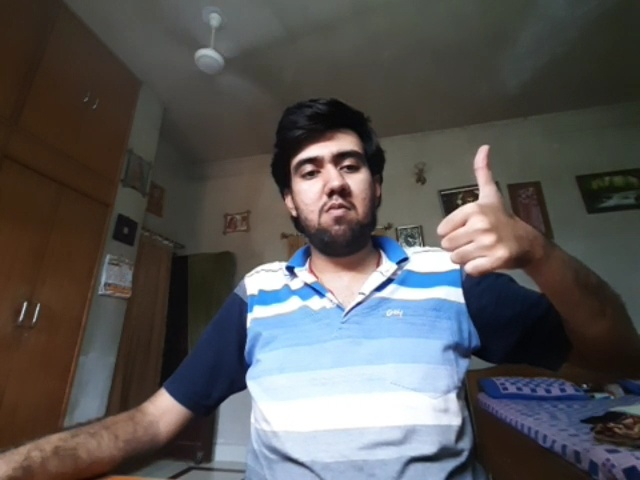Ok: (437, 145, 532, 275)
